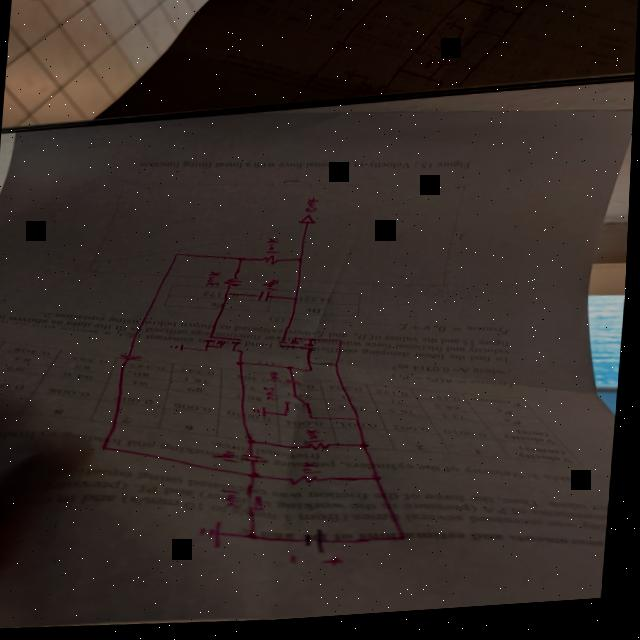capacitor: (245, 455, 272, 467), (259, 292, 276, 306), (287, 380, 306, 390)
diode: (120, 353, 148, 364)
ground: (202, 522, 230, 551), (254, 407, 272, 421), (173, 344, 190, 354)
junction: (253, 474, 265, 482), (253, 535, 265, 543), (376, 480, 388, 487), (403, 538, 413, 546), (364, 447, 374, 454), (250, 442, 261, 448), (103, 446, 114, 452), (239, 363, 248, 369), (338, 343, 348, 348), (300, 260, 308, 265), (240, 259, 248, 264), (313, 419, 321, 424), (241, 352, 249, 357), (290, 369, 298, 374), (227, 294, 235, 299), (287, 416, 294, 421), (295, 301, 303, 305), (177, 254, 185, 258), (358, 421, 366, 425), (311, 372, 317, 376), (206, 351, 212, 355), (235, 352, 239, 354)
resistor: (292, 476, 328, 491), (309, 444, 337, 456), (225, 279, 247, 291), (264, 257, 282, 269)
source: (292, 529, 353, 574)
switch: (248, 493, 272, 517), (287, 397, 316, 411)
terminal: (301, 217, 320, 229)
text: (225, 491, 246, 513), (217, 452, 243, 466), (207, 272, 226, 291), (267, 239, 285, 258), (265, 387, 284, 405), (306, 464, 327, 479), (308, 430, 327, 446), (307, 200, 323, 217), (264, 281, 283, 294), (271, 373, 286, 387)
transistor: (280, 338, 321, 356), (207, 336, 246, 351)
